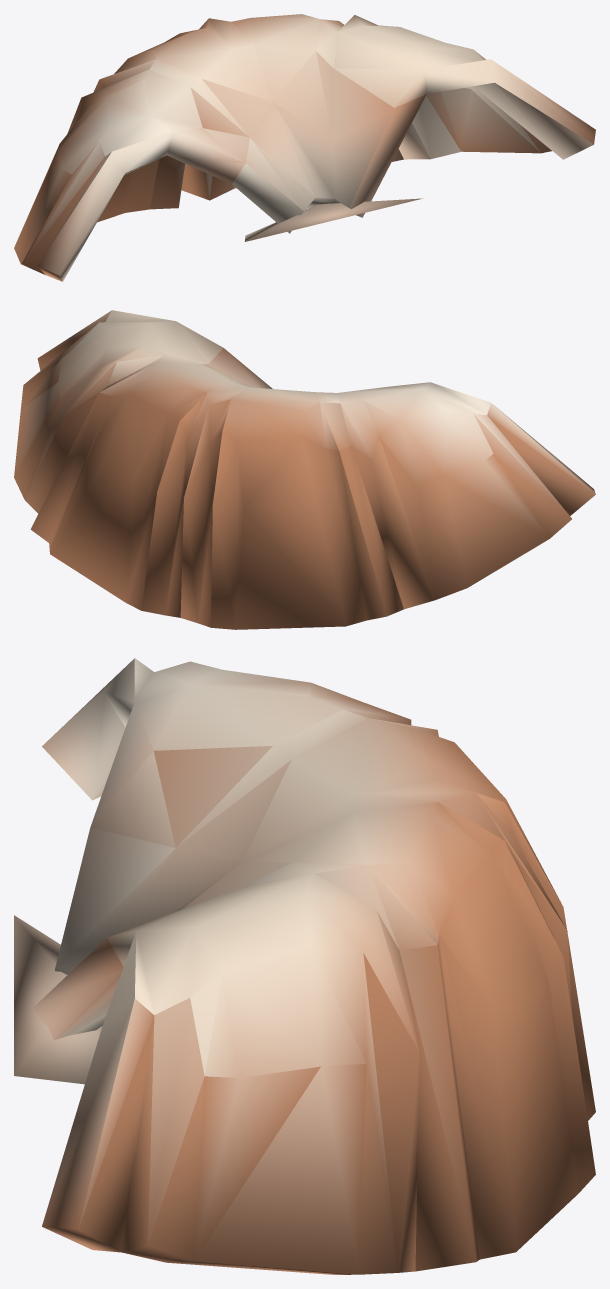
Rendered from shore_cockle_lod2.glb.
3 views of the same model, one above another, from view 1: azimuth 30°, elevation 25°; view 2: azimuth 150°, elevation 25°; view 3: azimuth 270°, elevation 25° (orthographic). The views are drawn at different scales.
Visible parts, largest first — view 1: shore_cockle.001; view 2: shore_cockle.001; view 3: shore_cockle.001.
Boxes of the visible parts, x1=… form: shore_cockle.001: x1=14, y1=14, x2=595, y2=281; shore_cockle.001: x1=14, y1=310, x2=595, y2=629; shore_cockle.001: x1=14, y1=658, x2=595, y2=1274.
Size of the model in its own units: 10.22 by 3.47 by 5.01.
